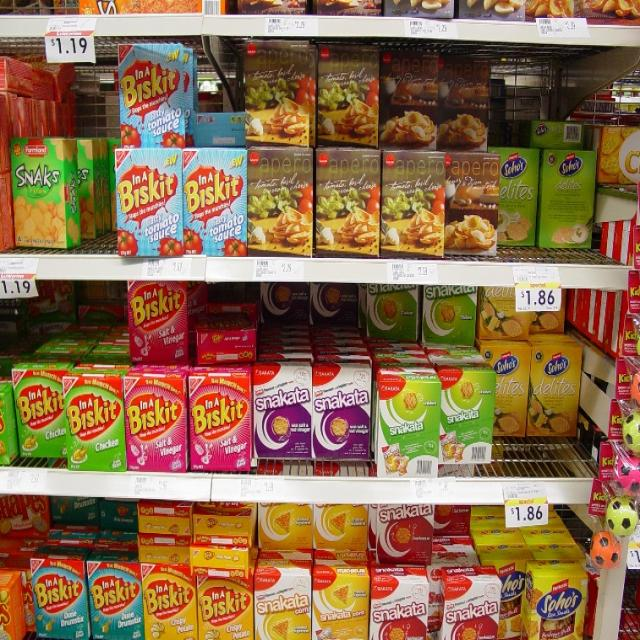q286: (11, 364, 72, 467), (68, 370, 120, 471)
